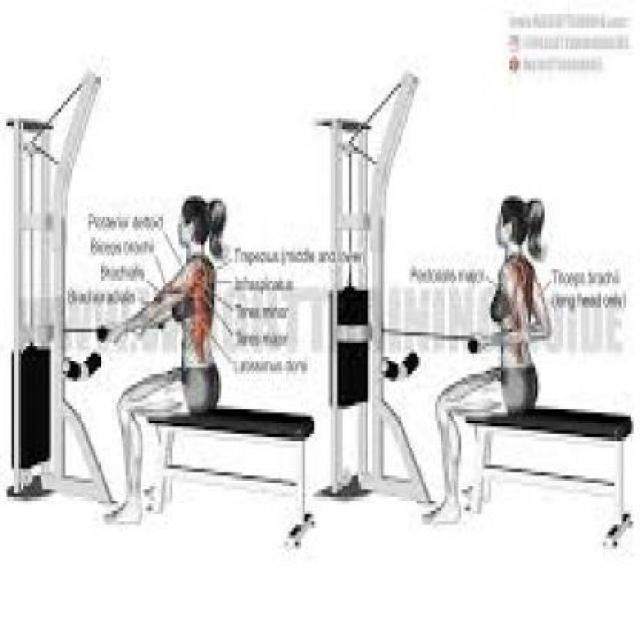Seated Cable Rows: (1, 66, 322, 572), (317, 63, 640, 559)
